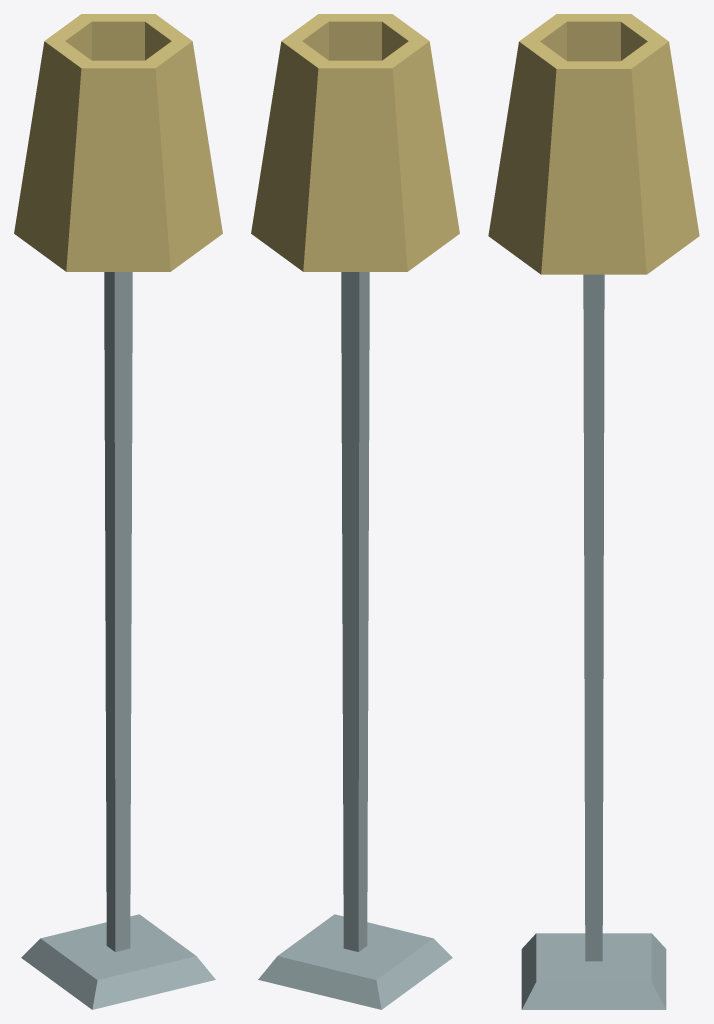
The model's file is furn_lampRoundFloor.glb.
3 views of the same model, side by side, from view 1: azimuth 30°, elevation 25°; view 2: azimuth 150°, elevation 25°; view 3: azimuth 270°, elevation 25° (orthographic).
Visible parts, largest first — view 1: lampRoundFloor(Clone); view 2: lampRoundFloor(Clone); view 3: lampRoundFloor(Clone).
Part boxes in pixels (box(x1,y1,x2,y2)): lampRoundFloor(Clone): box(14, 14, 222, 1009); lampRoundFloor(Clone): box(251, 14, 459, 1009); lampRoundFloor(Clone): box(488, 14, 699, 1009).
Bounding box in the file's own units: 0.152 × 0.86 × 0.1756.
